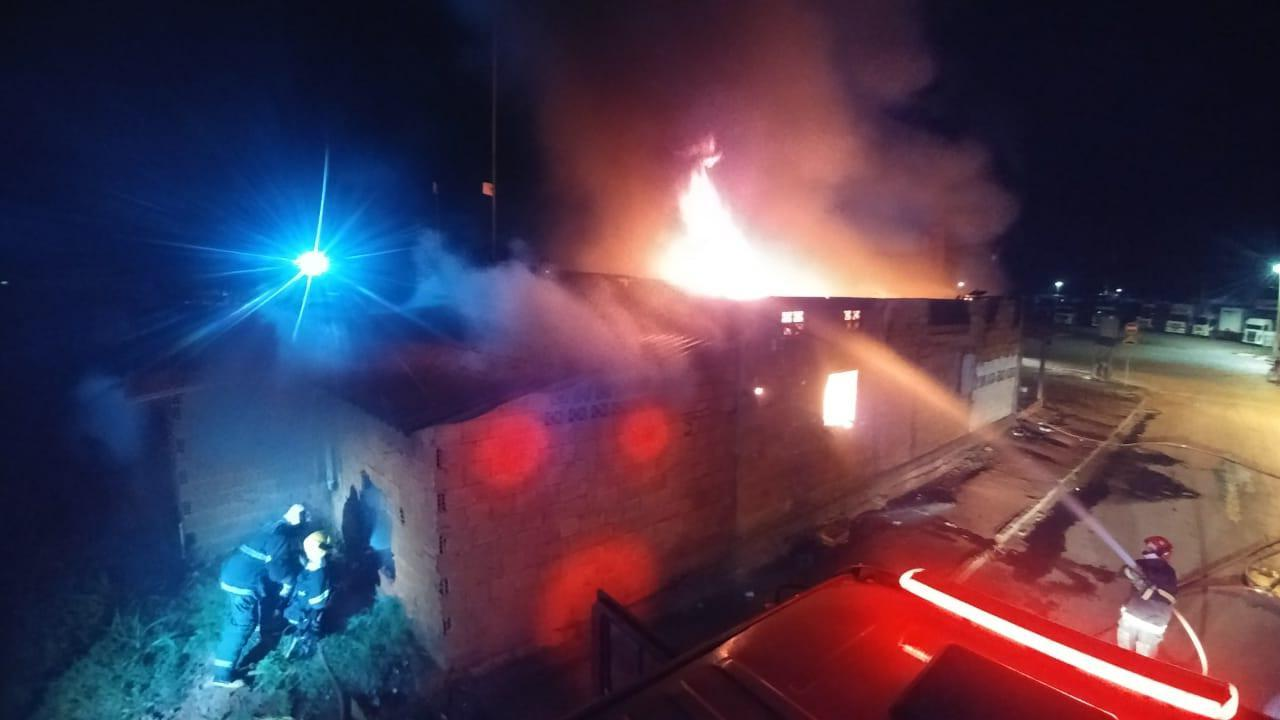Fire: (647, 169, 853, 305)
